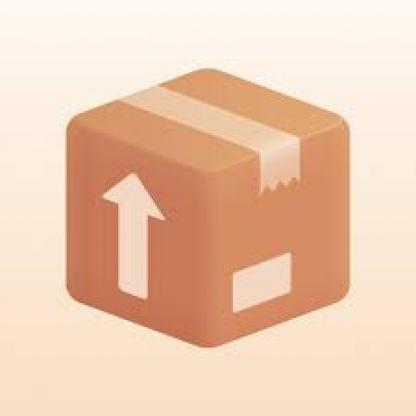paquete: (39, 43, 394, 355)
